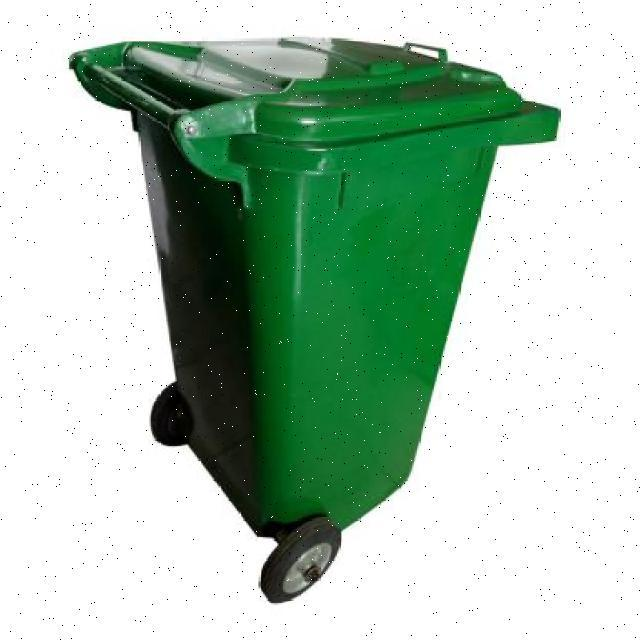garbage container: (59, 25, 576, 610)
